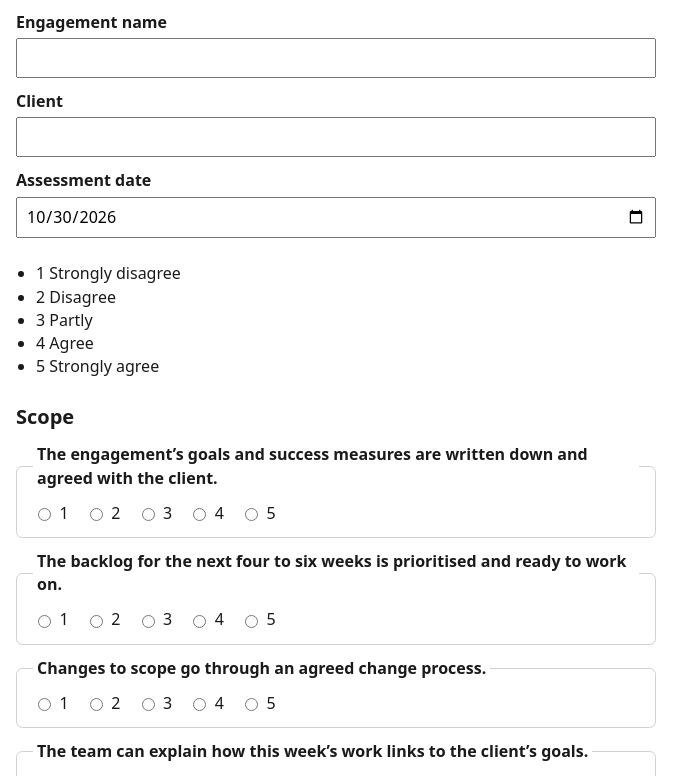
Test: AssessmentForm › DHC-1 AC2: engagement fields start empty except today’s local date, and clearing the date restores today
Expected: the field labelled "Engagement name" is empty, [16,38,656,78]
Expected: the field labelled "Client" is empty, [16,117,656,157]
Type "2020-01-15" into the date field labelled "Assessment date" at point(336, 218), box [16,196,656,238]
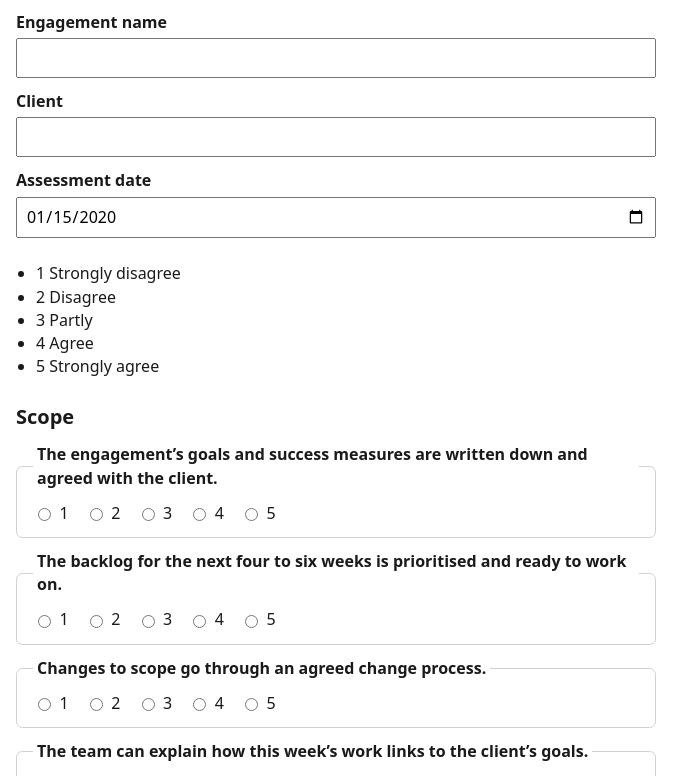
Type "2031-12-01" into the date field labelled "Assessment date" at point(336, 218), box [16,196,656,238]
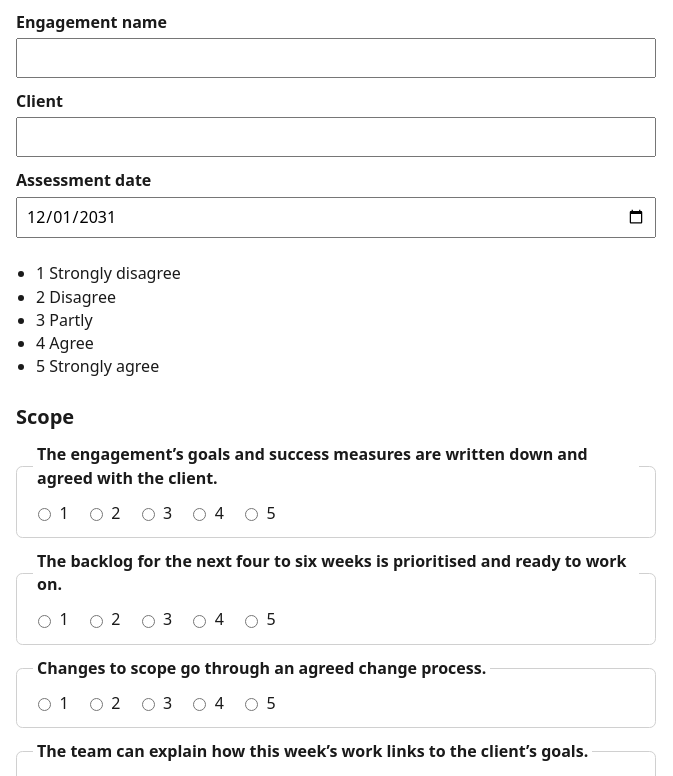
Clear the date field labelled "Assessment date" at point(336, 218), box [16,196,656,238]
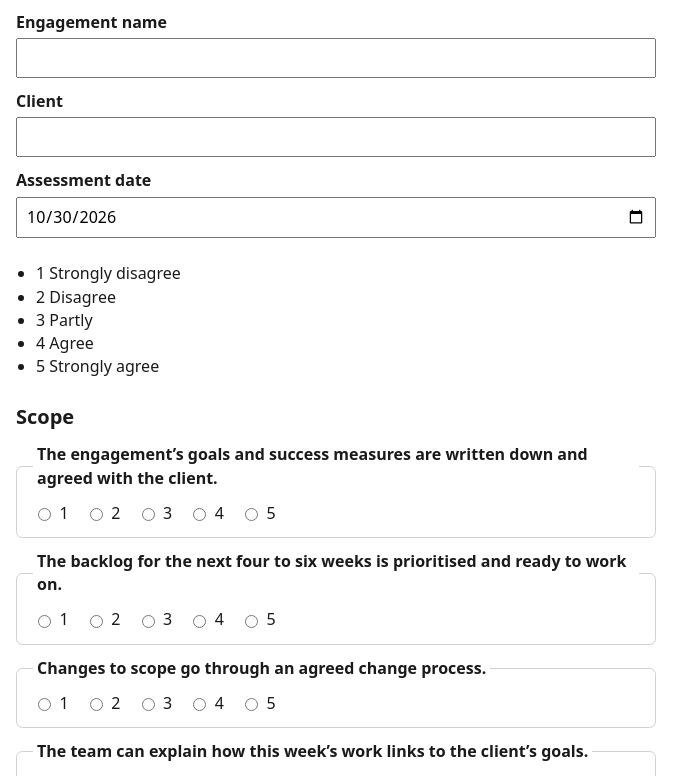
Now the date field labelled "Assessment date" holds "2026-10-30", box [16,196,656,238]
